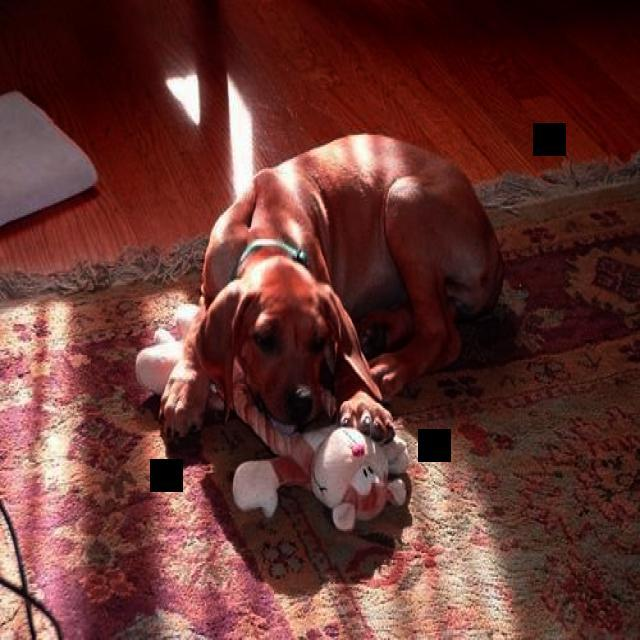adult_dog: (156, 133, 505, 450)
